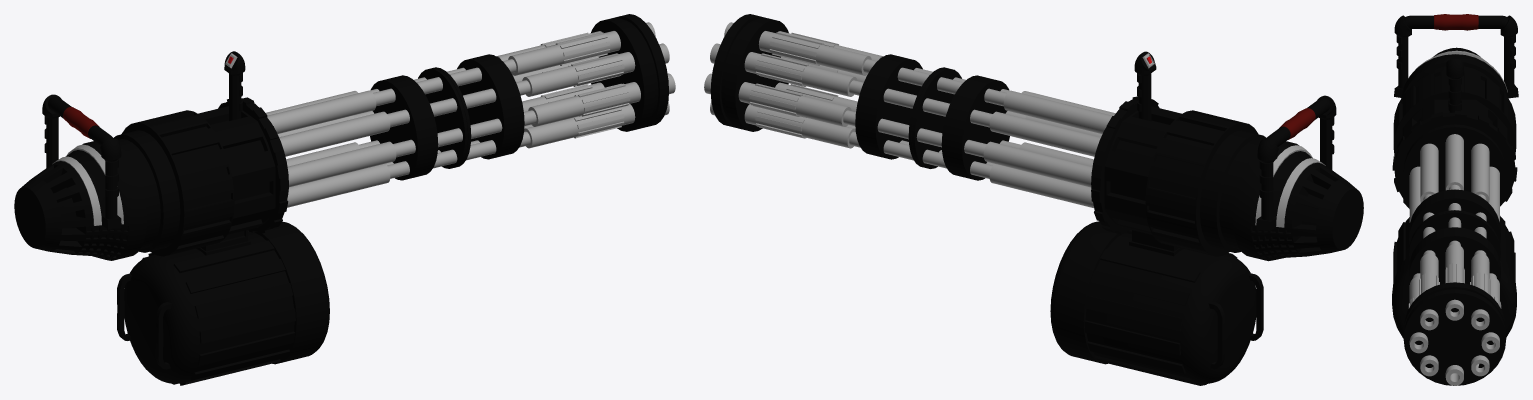
File: Minigun.fbx
3 views of the same model, side by side, from view 1: azimuth 30°, elevation 25°; view 2: azimuth 150°, elevation 25°; view 3: azimuth 270°, elevation 25° (orthographic). The views are drawn at different scales.
Parts seen in each view (by area): view 1: Cylinder.001, Cylinder.008, Cylinder.010, Cylinder.009, Cylinder.003, Cylinder.005, Cylinder.007, Cylinder.004, Cylinder.006; view 2: Cylinder.001, Cylinder.008, Cylinder.010, Cylinder.009, Cylinder.003, Cylinder.005, Cylinder.007, Cylinder.004, Cylinder.006; view 3: Cylinder.008, Cylinder.001, Cylinder.009, Cylinder.007, Cylinder.010, Cylinder, Cylinder.003, Cylinder.005, Cylinder.002, Cylinder.006, Cylinder.004.
Boxes of the visible parts, x1=… form: Cylinder.001: x1=14, y1=97, x2=288, y2=260; Cylinder.008: x1=266, y1=22, x2=675, y2=207; Cylinder.010: x1=117, y1=221, x2=329, y2=385; Cylinder.009: x1=591, y1=14, x2=668, y2=131; Cylinder.003: x1=457, y1=54, x2=524, y2=159; Cylinder.005: x1=370, y1=75, x2=438, y2=180; Cylinder.007: x1=42, y1=94, x2=121, y2=219; Cylinder.004: x1=418, y1=68, x2=467, y2=168; Cylinder.006: x1=224, y1=51, x2=245, y2=120; Cylinder.001: x1=1091, y1=96, x2=1363, y2=261; Cylinder.008: x1=704, y1=22, x2=1115, y2=207; Cylinder.010: x1=1050, y1=221, x2=1263, y2=385; Cylinder.009: x1=710, y1=14, x2=788, y2=131; Cylinder.003: x1=855, y1=54, x2=922, y2=159; Cylinder.005: x1=941, y1=75, x2=1009, y2=180; Cylinder.007: x1=1257, y1=95, x2=1336, y2=220; Cylinder.004: x1=911, y1=68, x2=961, y2=168; Cylinder.006: x1=1134, y1=51, x2=1156, y2=121; Cylinder.008: x1=1408, y1=134, x2=1501, y2=385; Cylinder.001: x1=1392, y1=47, x2=1518, y2=208; Cylinder.009: x1=1403, y1=282, x2=1506, y2=385; Cylinder.007: x1=1394, y1=14, x2=1517, y2=88; Cylinder.010: x1=1392, y1=216, x2=1516, y2=338; Cylinder: x1=1403, y1=124, x2=1506, y2=194; Cylinder.003: x1=1409, y1=227, x2=1500, y2=284; Cylinder.005: x1=1409, y1=189, x2=1500, y2=244; Cylinder.002: x1=1409, y1=211, x2=1500, y2=260; Cylinder.006: x1=1446, y1=59, x2=1463, y2=112; Cylinder.004: x1=1409, y1=210, x2=1500, y2=252.
Bounding box in the file's own units: 103 × 49.73 × 20.37.
